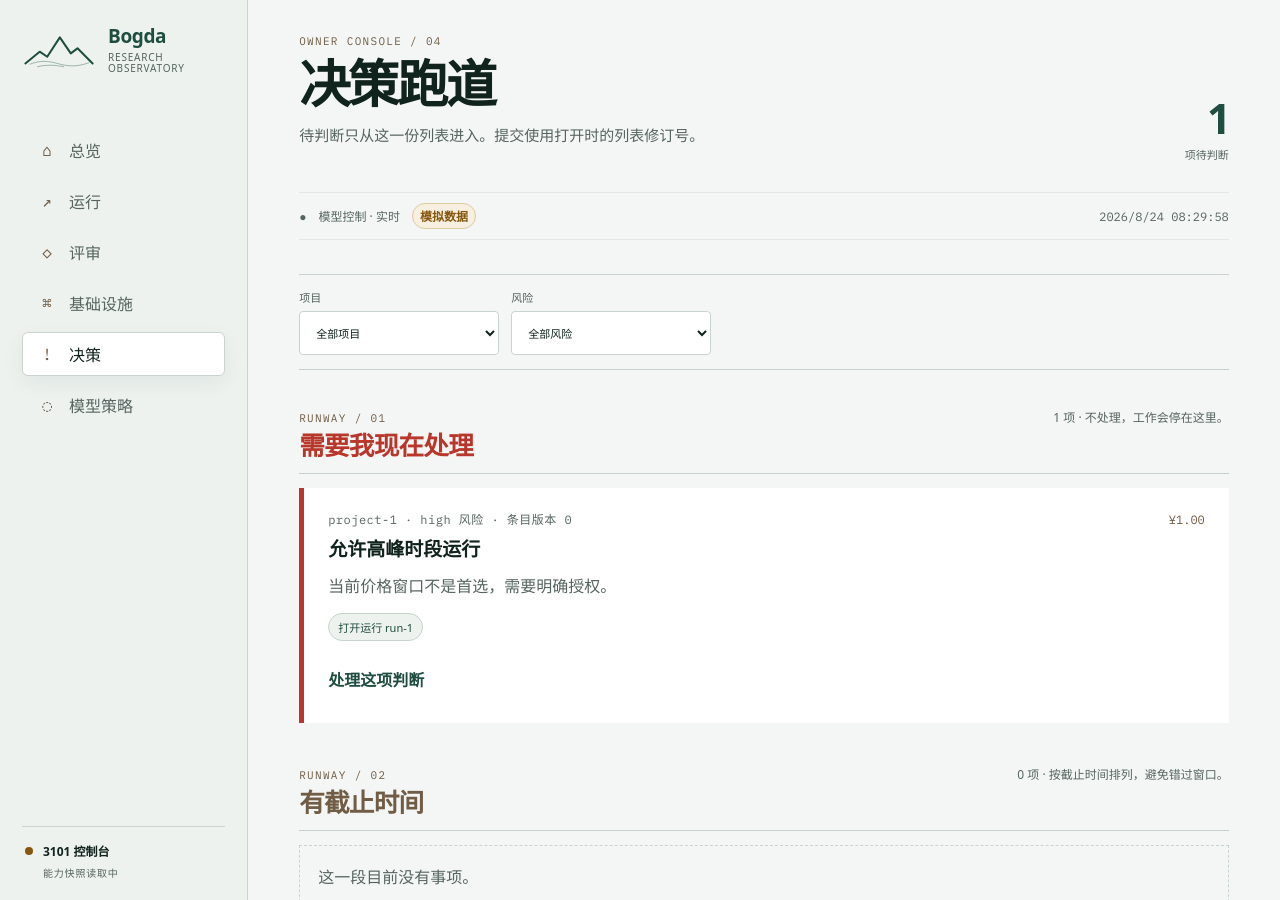
Test case: owner decision runway › keeps mutation controls disabled while capability loading is pending
Click the button with aria-label "查看：允许高峰时段运行" at (376, 680), box left=328, top=658, right=424, bottom=702
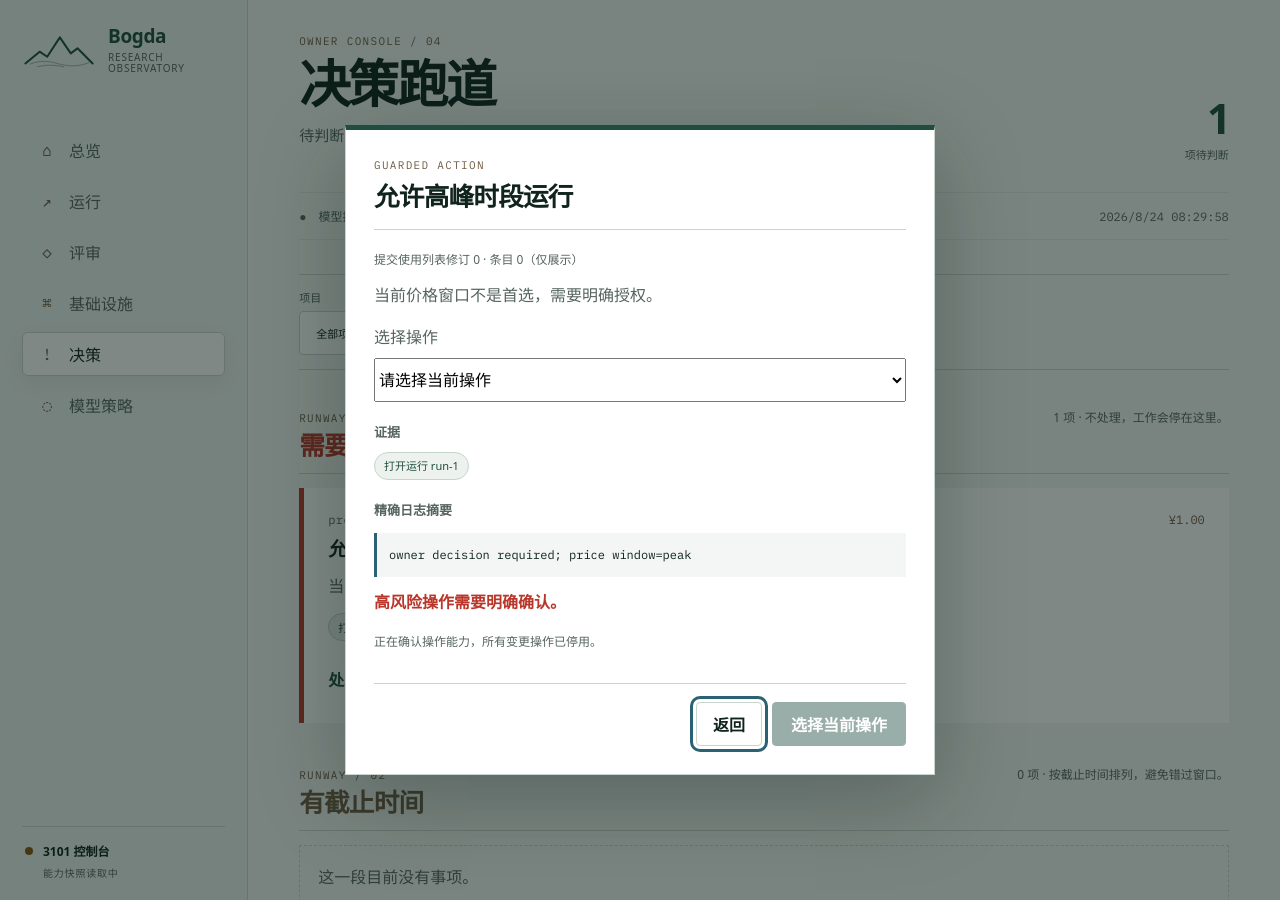
Check: the text "正在确认操作能力，所有变更操作已停用。" is shown, box left=374, top=633, right=602, bottom=650
Check: the button "选择当前操作" is disabled, box left=772, top=702, right=906, bottom=746
